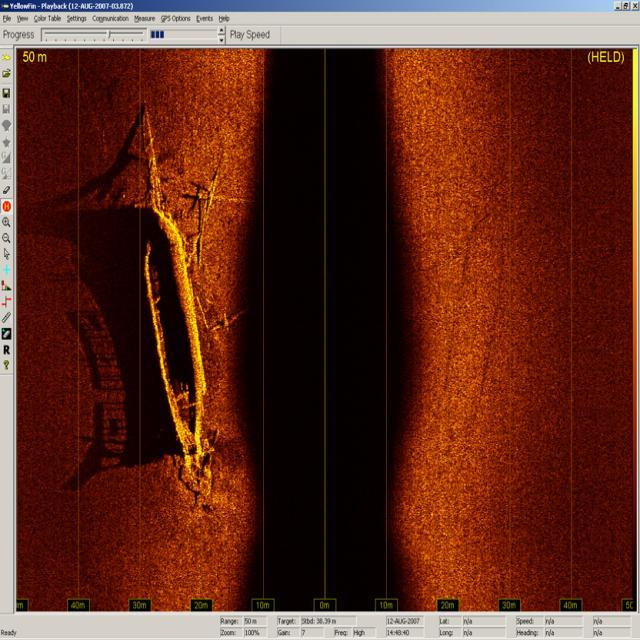shipwreck: (124, 161, 222, 488)
